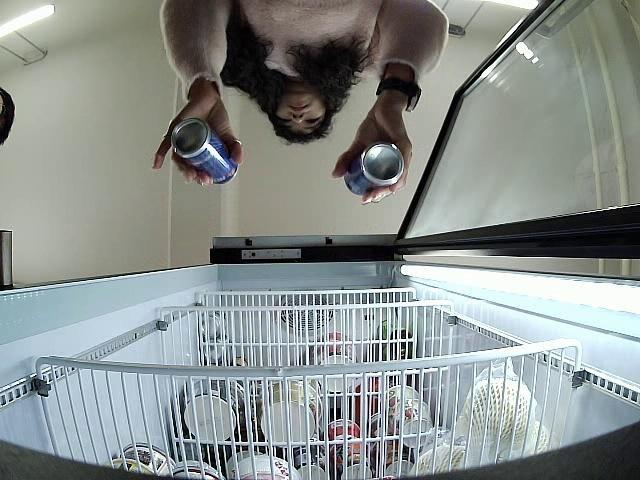16_hot6: (170, 118, 239, 184), (344, 140, 406, 195)
